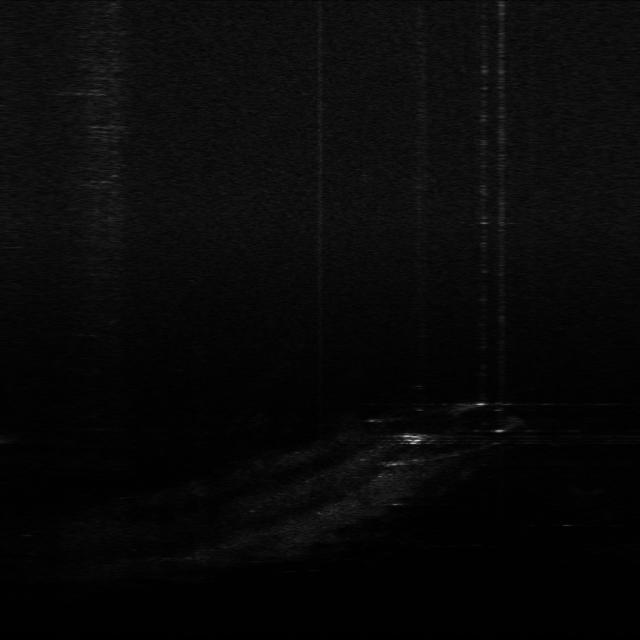rov: (401, 432, 428, 446)
